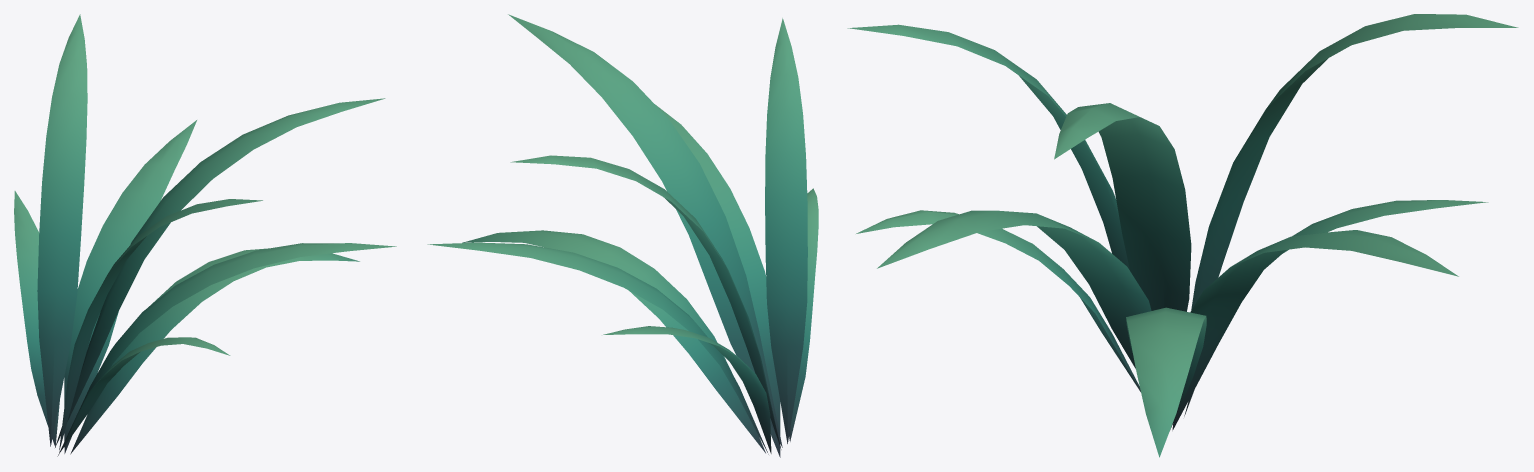
Rendered from S_Grass_EdgeClump.fbx.
3 views of the same model, side by side, from view 1: azimuth 30°, elevation 25°; view 2: azimuth 150°, elevation 25°; view 3: azimuth 270°, elevation 25° (orthographic). The views are drawn at different scales.
Visible parts, largest first — view 1: Grass_EdgeClump_GEO; view 2: Grass_EdgeClump_GEO; view 3: Grass_EdgeClump_GEO.
Part boxes in pixels (<box>): Grass_EdgeClump_GEO: <box>14,14,396,456</box>; Grass_EdgeClump_GEO: <box>427,14,818,457</box>; Grass_EdgeClump_GEO: <box>847,14,1518,457</box>.
Size of the model in its own units: 5.77 by 5.86 by 7.14.
